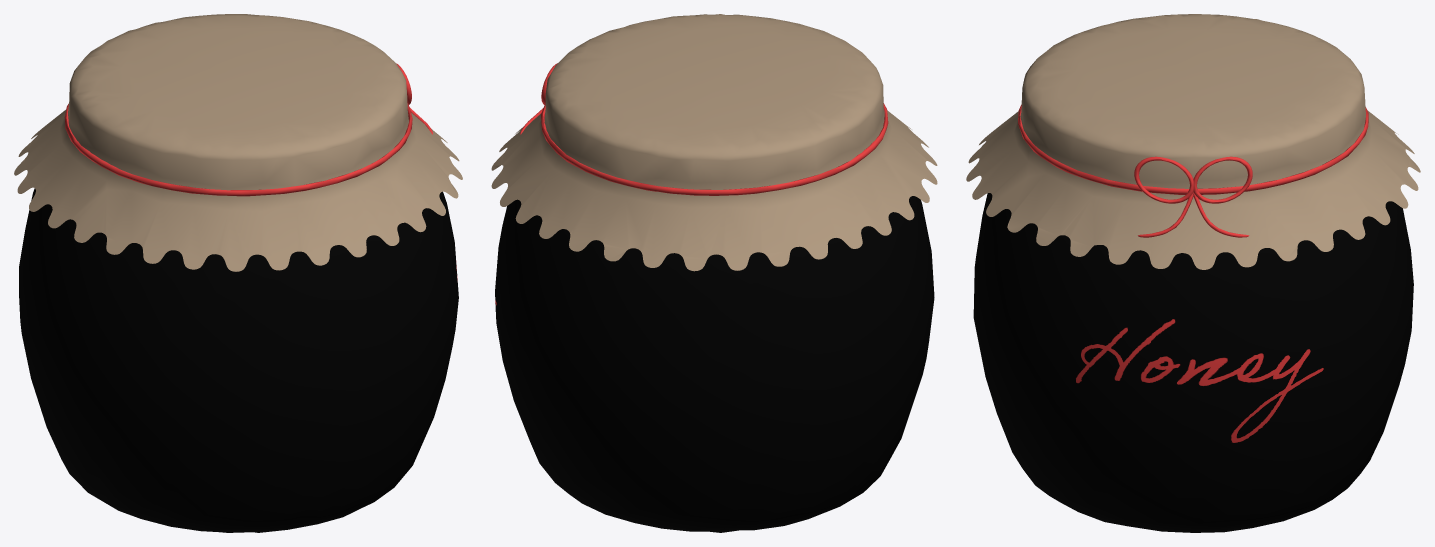
The model's file is jar1.gltf.
3 renders of one model, left to right at view 1: azimuth 30°, elevation 25°; view 2: azimuth 150°, elevation 25°; view 3: azimuth 270°, elevation 25°, orthographic.
Parts seen in each view (by area): view 1: Cylinder, Cylinder.001, Circle.001; view 2: Cylinder, Cylinder.001, Circle.001; view 3: Cylinder, Cylinder.001, Circle.001.
Boxes of the visible parts, x1,y1,x2,y2 form: Cylinder: (19,188,458,532); Cylinder.001: (14,14,462,271); Circle.001: (64,63,432,196); Cylinder: (495,196,934,532); Cylinder.001: (491,14,937,271); Circle.001: (520,63,888,195); Cylinder: (973,193,1413,532); Cylinder.001: (966,14,1420,269); Circle.001: (1018,104,1368,237).
Size of the model in its own units: 2.17 by 2.18 by 2.2.
